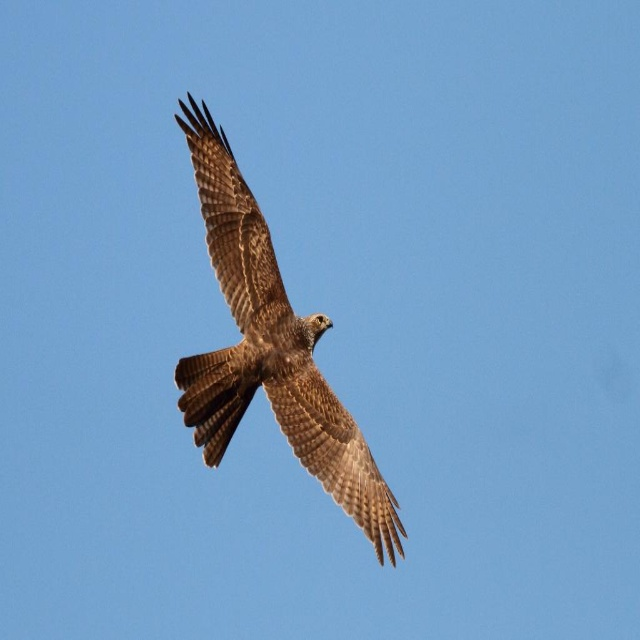Eagle: (172, 90, 412, 570)
